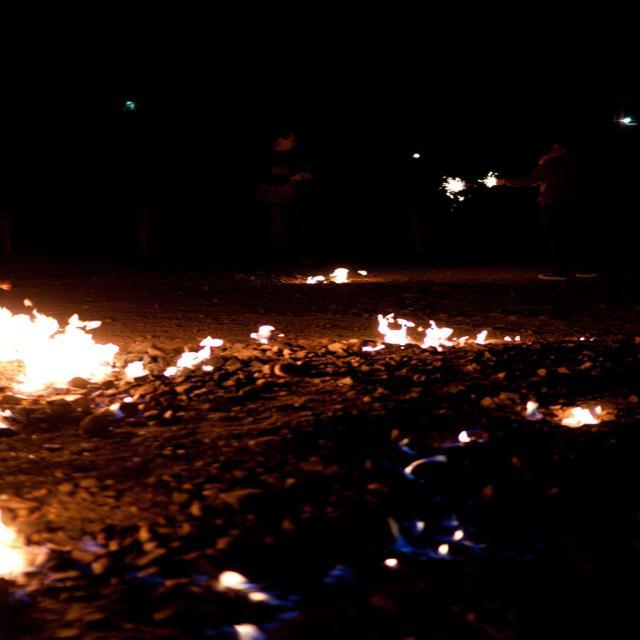Fire: (7, 303, 120, 397)
